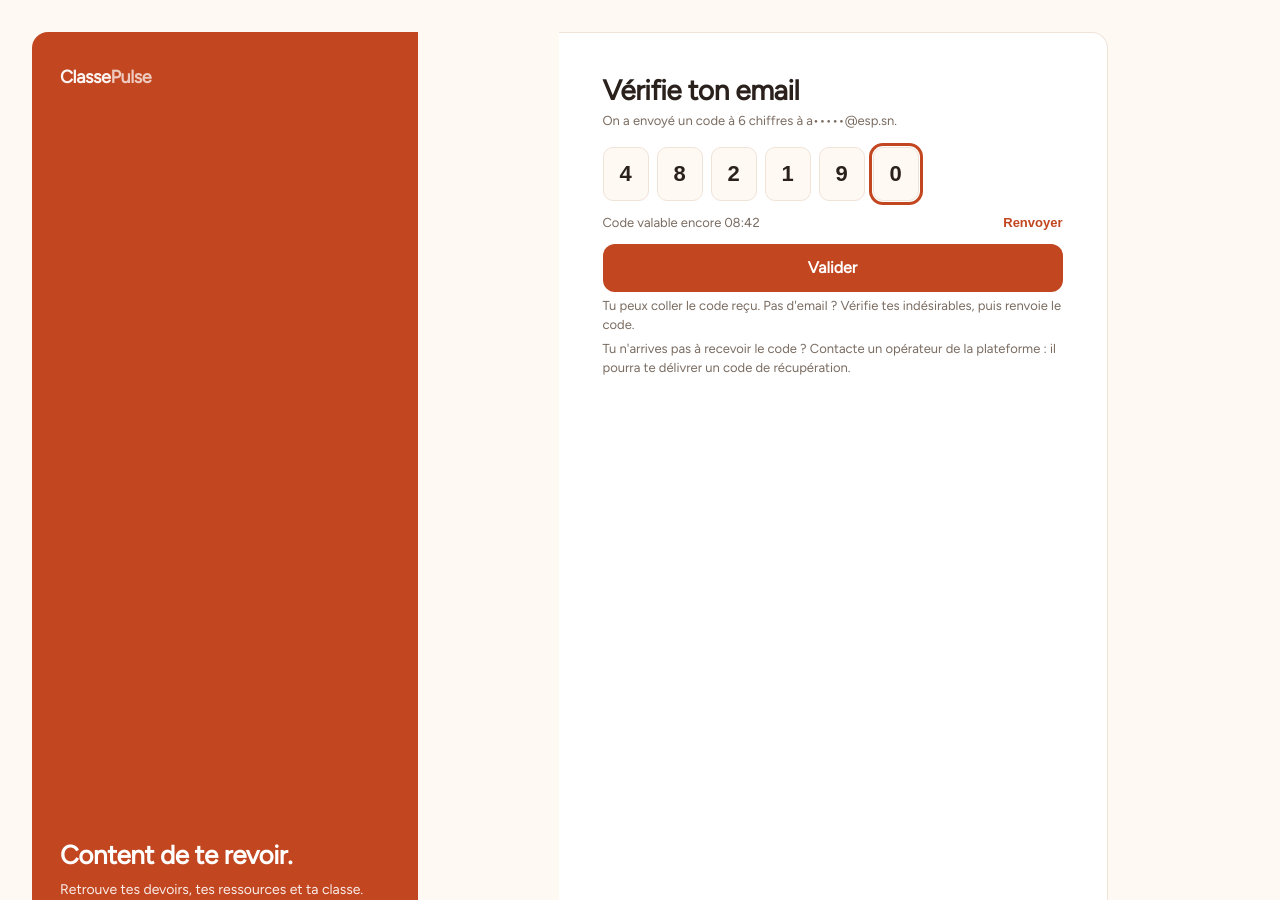
Test: code à 6 chiffres (P2, M8) › colle le code, valide et ouvre la session
Step 1. Click the button "Valider" → {"x": 832, "y": 268}, box [602,244,1062,292]
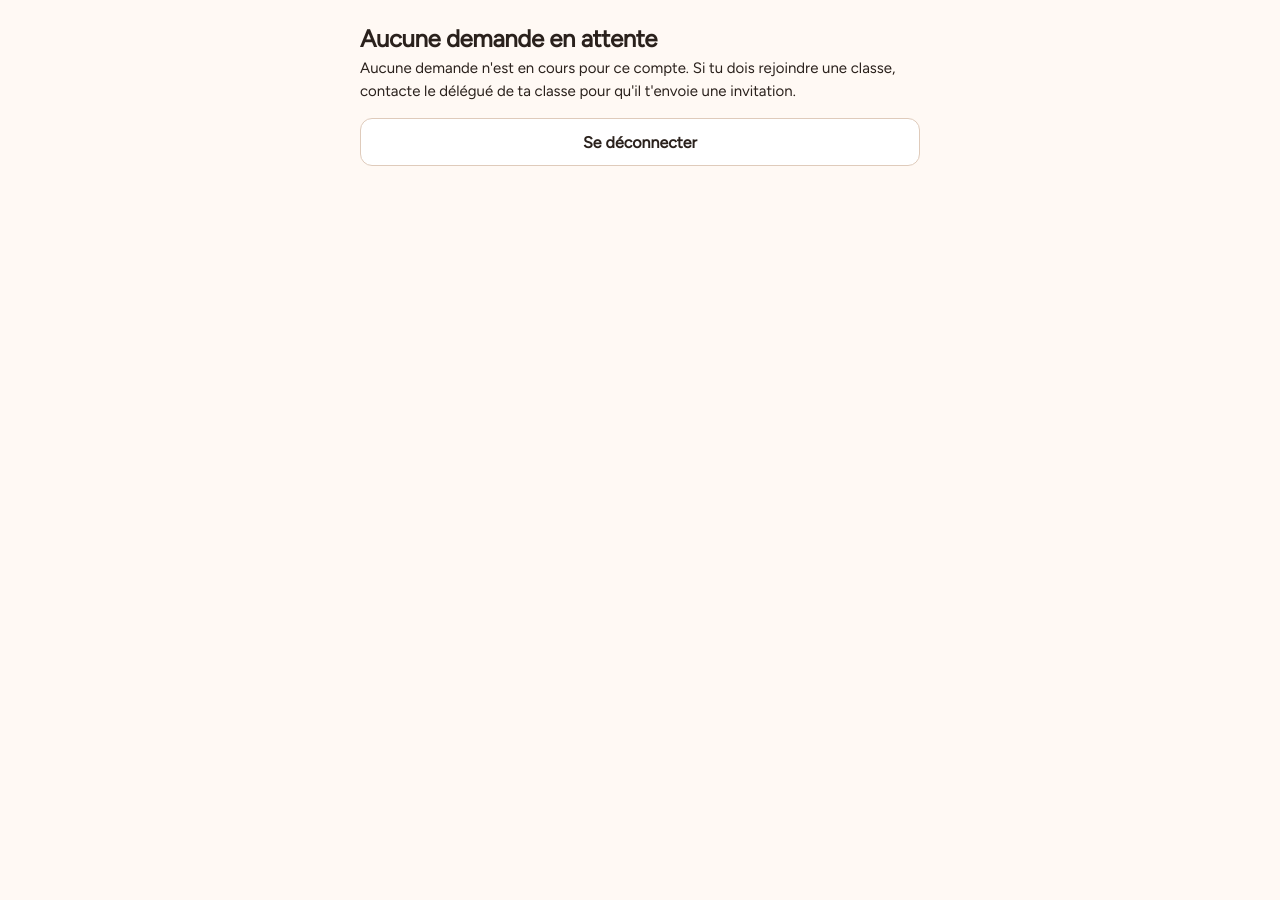
Expected: the heading "Aucune demande en attente" is shown, [360,24,657,53]
